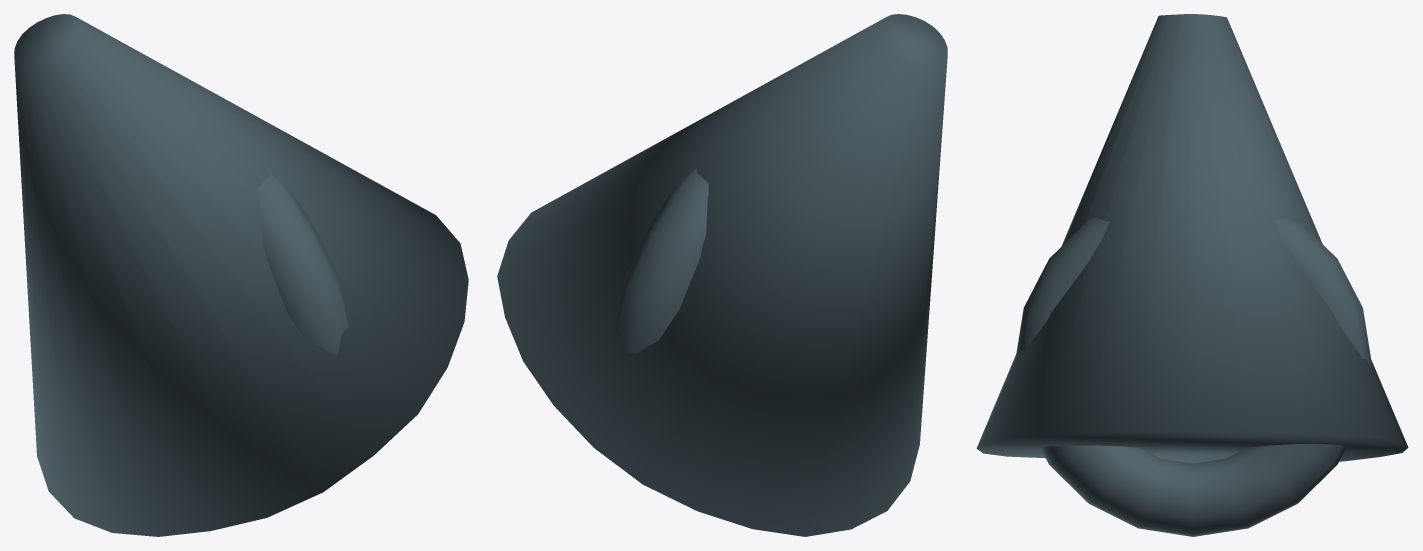
File: SM_Head_AbyssHood.fbx
3 renders of one model, left to right at view 1: azimuth 30°, elevation 25°; view 2: azimuth 150°, elevation 25°; view 3: azimuth 270°, elevation 25°, orthographic. The views are drawn at different scales.
Parts seen in each view (by area): view 1: Cone; view 2: Cone; view 3: Cone.
Boxes of the visible parts, <box> form: Cone: <box>14,14,468,536</box>; Cone: <box>497,14,947,536</box>; Cone: <box>976,14,1408,536</box>.
Size of the model in its own units: 0.5211 by 0.5243 by 0.6024.
